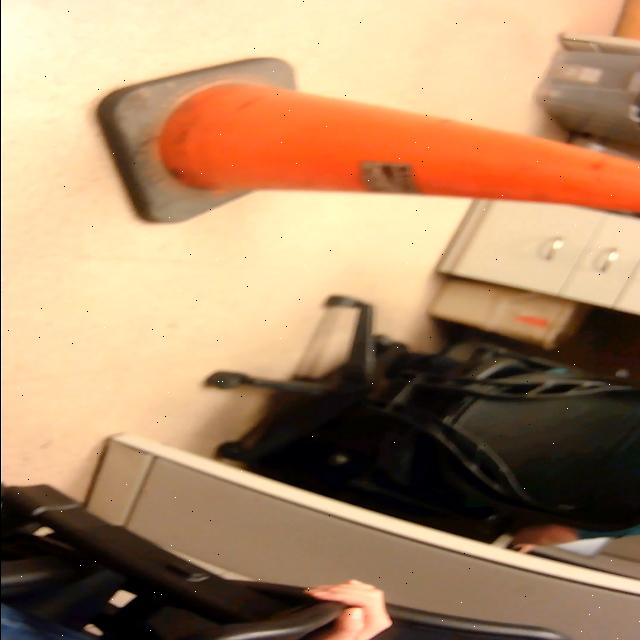traffic cone: (87, 53, 640, 231)
